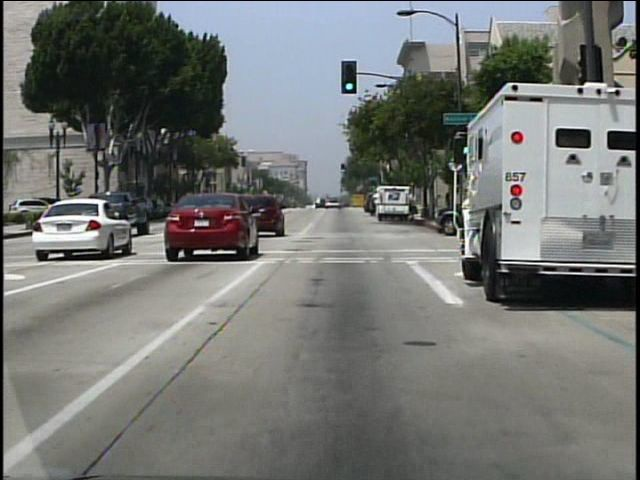person: (409, 189, 419, 223)
